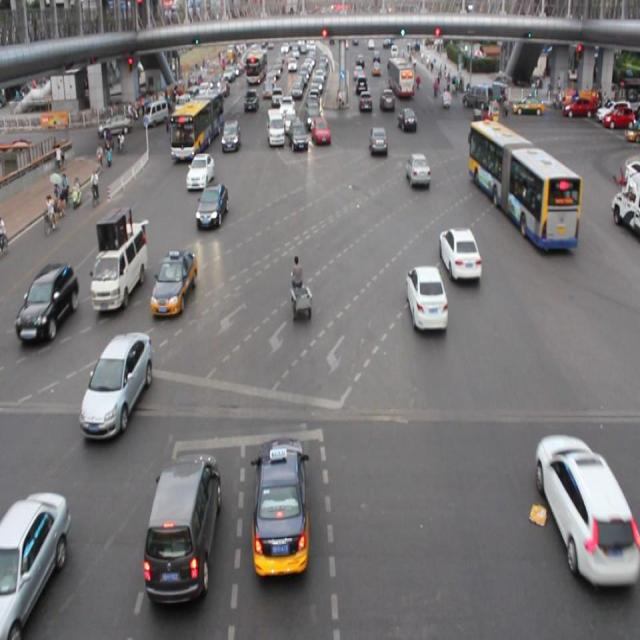car: (534, 433, 640, 586), (1, 492, 66, 640), (251, 438, 310, 578), (81, 329, 151, 438), (17, 262, 78, 342), (149, 251, 199, 318), (407, 265, 446, 329), (440, 228, 481, 280), (194, 183, 229, 231), (185, 152, 215, 192), (404, 152, 430, 190), (219, 118, 242, 156), (289, 117, 311, 154), (368, 124, 388, 158), (311, 114, 331, 146), (396, 107, 418, 134)
truck: (146, 453, 219, 603), (90, 211, 146, 310), (265, 108, 285, 148)
van: (470, 121, 577, 250), (170, 90, 221, 160)
